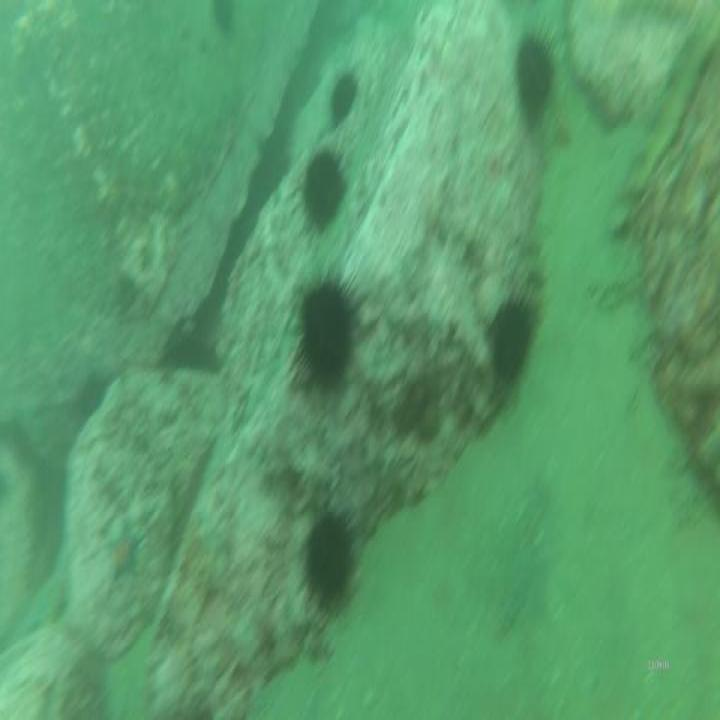echinus: (301, 498, 363, 615), (299, 268, 356, 393), (485, 288, 542, 391), (294, 142, 355, 236), (517, 21, 559, 123), (324, 70, 360, 126)
holothurian: (612, 5, 718, 217)
starfish: (107, 521, 142, 585)
